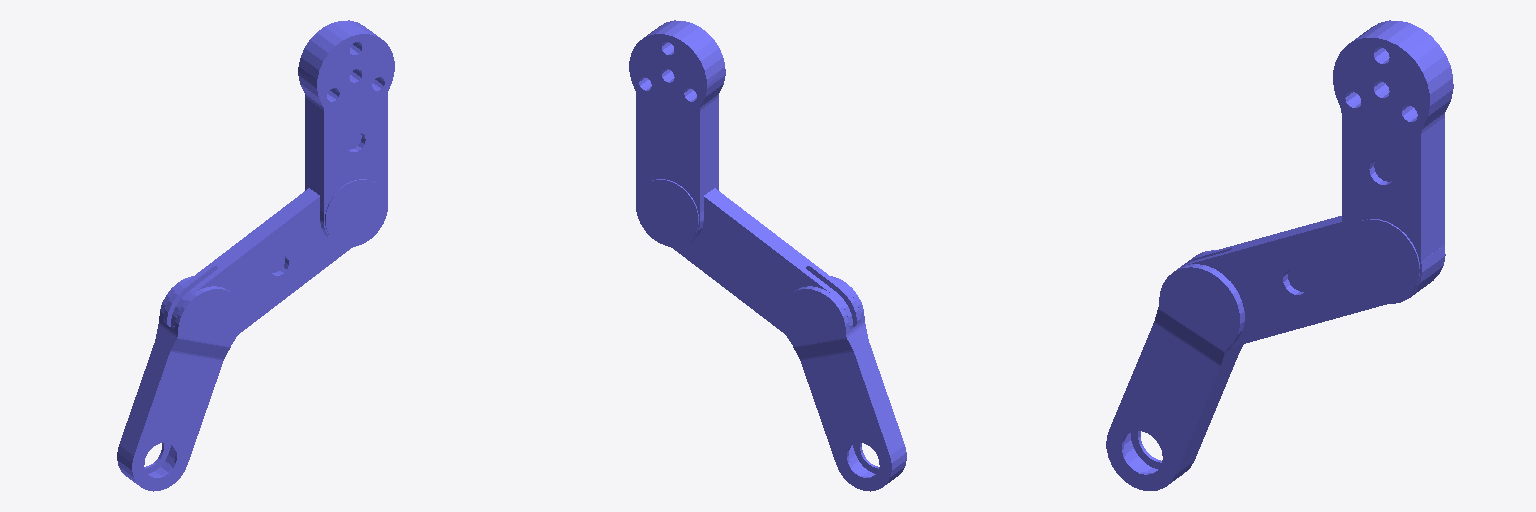
robot.urdf — Ca_chua_discription:
<?xml version="1.0" encoding="utf-8"?>
<!-- This URDF was automatically created by SolidWorks to URDF Exporter! Originally created by [author] ([email redacted]) 
     Commit Version: 1.6.0-1-g15f4949  Build Version: 1.6.7594.29634
     For more information, please see http://wiki.ros.org/sw_urdf_exporter -->
<robot
  name="Ca_chua_discription">
  <link
    name="base_link">
    <inertial>
      <origin
        xyz="0.0065983702120464 -0.336373566912517 -0.0257427295708327"
        rpy="0 0 0" />
      <mass
        value="2.13775890794895" />
      <inertia
        ixx="0.0447028692836465"
        ixy="-2.53128621951427E-05"
        ixz="-2.94763553843357E-07"
        iyy="0.00543037915506856"
        iyz="8.94085734844386E-06"
        izz="0.0447043656015194" />
    </inertial>
    <visual>
      <origin
        xyz="0 0 0"
        rpy="0 0 0" />
      <geometry>
        <mesh
          filename="package://Ca_chua_discription/meshes/base_link.STL" />
      </geometry>
      <material
        name="">
        <color
          rgba="0.792156862745098 0.819607843137255 0.933333333333333 1" />
      </material>
    </visual>
    <collision>
      <origin
        xyz="0 0 0"
        rpy="0 0 0" />
      <geometry>
        <mesh
          filename="package://Ca_chua_discription/meshes/base_link.STL" />
      </geometry>
    </collision>
  </link>
  <link
    name="link_1">
    <inertial>
      <origin
        xyz="8.67361737988404E-19 -0.0718597871210987 -0.0194578791046949"
        rpy="0 0 0" />
      <mass
        value="0.979766055196368" />
      <inertia
        ixx="0.00747669548599809"
        ixy="-1.15725353931764E-19"
        ixz="-9.64382863124498E-21"
        iyy="0.00122674898370894"
        iyz="-3.56275974428906E-06"
        izz="0.00814613143305283" />
    </inertial>
    <visual>
      <origin
        xyz="0 0 0"
        rpy="0 0 0" />
      <geometry>
        <mesh
          filename="package://Ca_chua_discription/meshes/link_1.STL" />
      </geometry>
      <material
        name="">
        <color
          rgba="0.501960784313725 0.501960784313725 1 1" />
      </material>
    </visual>
    <collision>
      <origin
        xyz="0 0 0"
        rpy="0 0 0" />
      <geometry>
        <mesh
          filename="package://Ca_chua_discription/meshes/link_1.STL" />
      </geometry>
    </collision>
  </link>
  <joint
    name="joint_1"
    type="prismatic">
    <origin
      xyz="0.0066366 -0.35931 -0.025756"
      rpy="1.5708 0 0" />
    <parent
      link="base_link" />
    <child
      link="link_1" />
    <axis
      xyz="0 0 1" />
    <limit
      lower="-0.25"
      upper="0"
      effort="0"
      velocity="0" />
  </joint>
  <link
    name="link_2">
    <inertial>
      <origin
        xyz="-0.0548425804399554 -0.0966386878782949 -0.0314096690769962"
        rpy="0 0 0" />
      <mass
        value="0.735688332874956" />
      <inertia
        ixx="0.00549100848152213"
        ixy="-0.00272925750756946"
        ixz="-4.84385993030019E-07"
        iyy="0.00223061228630509"
        iyz="-8.53541653538469E-07"
        izz="0.0075818839430566" />
    </inertial>
    <visual>
      <origin
        xyz="0 0 0"
        rpy="0 0 0" />
      <geometry>
        <mesh
          filename="package://Ca_chua_discription/meshes/link_2.STL" />
      </geometry>
      <material
        name="">
        <color
          rgba="0.501960784313725 0.501960784313725 1 1" />
      </material>
    </visual>
    <collision>
      <origin
        xyz="0 0 0"
        rpy="0 0 0" />
      <geometry>
        <mesh
          filename="package://Ca_chua_discription/meshes/link_2.STL" />
      </geometry>
    </collision>
  </link>
  <joint
    name="joint_2"
    type="continuous">
    <origin
      xyz="0 -0.20072 0.012"
      rpy="0 0 -0.59257" />
    <parent
      link="link_1" />
    <child
      link="link_2" />
    <axis
      xyz="0 0 1" />
  </joint>
  <link
    name="link_3">
    <inertial>
      <origin
        xyz="-0.0131002977841246 -0.116411787180883 -0.0313135878540829"
        rpy="0 0 0" />
      <mass
        value="0.454304812581273" />
      <inertia
        ixx="0.00085773207578438"
        ixy="0.000901723301370522"
        ixz="-1.39997464163509E-18"
        iyy="0.00290983080828492"
        iyz="4.9673566200655E-19"
        izz="0.00352875533740883" />
    </inertial>
    <visual>
      <origin
        xyz="0 0 0"
        rpy="0 0 0" />
      <geometry>
        <mesh
          filename="package://Ca_chua_discription/meshes/link_3.STL" />
      </geometry>
      <material
        name="">
        <color
          rgba="0.501960784313725 0.501960784313725 1 1" />
      </material>
    </visual>
    <collision>
      <origin
        xyz="0 0 0"
        rpy="0 0 0" />
      <geometry>
        <mesh
          filename="package://Ca_chua_discription/meshes/link_3.STL" />
      </geometry>
    </collision>
  </link>
  <joint
    name="joint_3"
    type="continuous">
    <origin
      xyz="0 -0.25 0"
      rpy="0 0 -0.994433274533891" />
    <parent
      link="link_2" />
    <child
      link="link_3" />
    <axis
      xyz="0 0 1" />
  </joint>
</robot>

--- Render facts (derived) ---
3 views of the same robot in one strip: view 1: azimuth 30°, elevation 25°; view 2: azimuth 150°, elevation 25°; view 3: azimuth 330°, elevation 25° (orthographic).
Robot: Ca_chua_discription — 4 links, 3 joints (2 continuous, 1 prismatic); root link base_link; default pose: every joint at zero.
Visible links, largest first — view 1: link_1, link_3, link_2; view 2: link_1, link_3, link_2; view 3: link_1, link_3, link_2.
Boxes of the visible links, x1=… form: link_1: x1=298, y1=20, x2=394, y2=246; link_3: x1=117, y1=276, x2=242, y2=491; link_2: x1=163, y1=188, x2=352, y2=334; link_1: x1=629, y1=20, x2=725, y2=246; link_3: x1=781, y1=276, x2=906, y2=491; link_2: x1=671, y1=188, x2=860, y2=334; link_1: x1=1333, y1=20, x2=1453, y2=303; link_3: x1=1106, y1=250, x2=1244, y2=490; link_2: x1=1181, y1=216, x2=1440, y2=347.
Size in the robot's own frame: 0.4011 by 0.054 by 0.602 metres.
Meshes: 4 distinct files referenced, 3 mesh visuals loaded (3 binary STL); not drawn: 1 (reference not matched to a file when rendering).